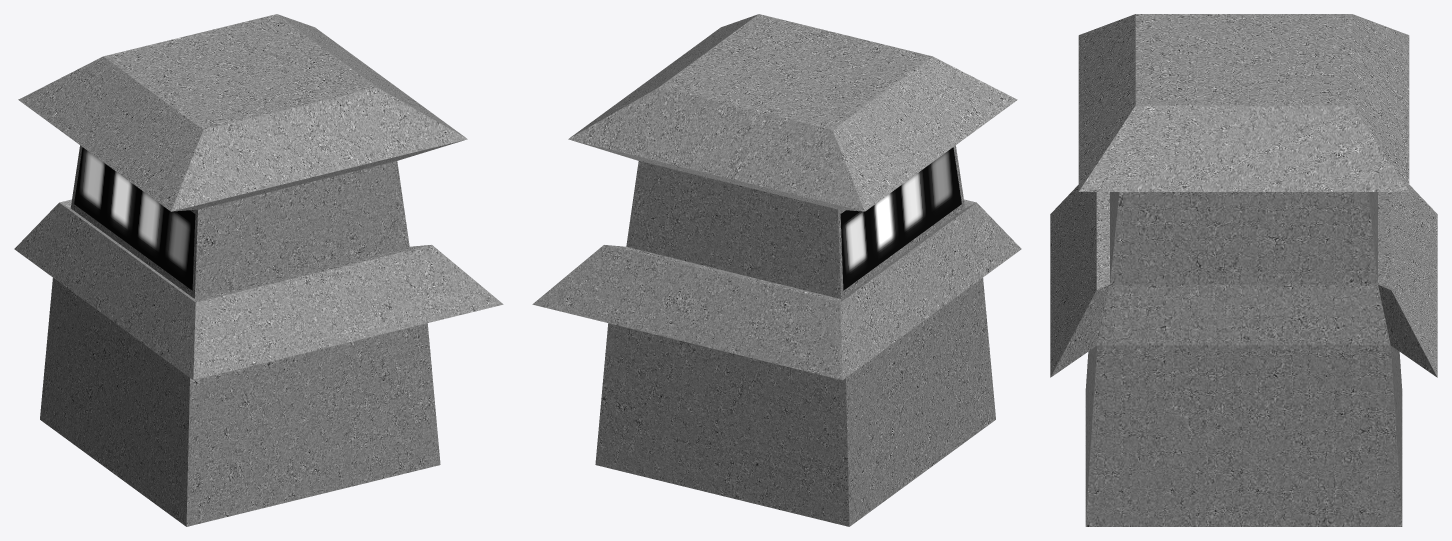
The model's file is FBX_GuardPost.fbx.
The picture shows the model from 3 angles, left to right: view 1: azimuth 30°, elevation 25°; view 2: azimuth 150°, elevation 25°; view 3: azimuth 270°, elevation 25°; orthographic projection. The views are drawn at different scales.
Visible parts, largest first — view 1: Guard Post Export; view 2: Guard Post Export; view 3: Guard Post Export.
Part boxes in pixels (x1,y1,x2,y2): Guard Post Export: [14, 14, 503, 526]; Guard Post Export: [532, 14, 1021, 526]; Guard Post Export: [1050, 14, 1437, 526].
Size of the model in its own units: 0.3957 by 0.3843 by 0.4381.
